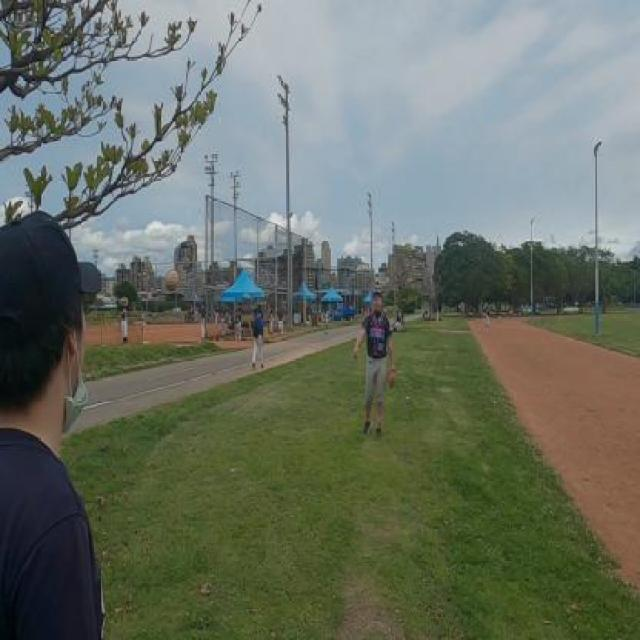baseball: (164, 267, 178, 291)
